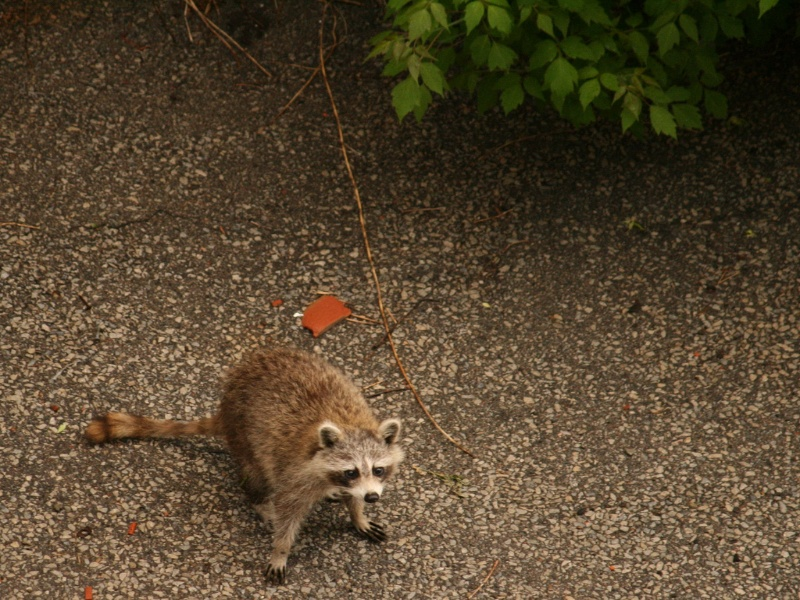raccoon: (86, 346, 407, 585)
